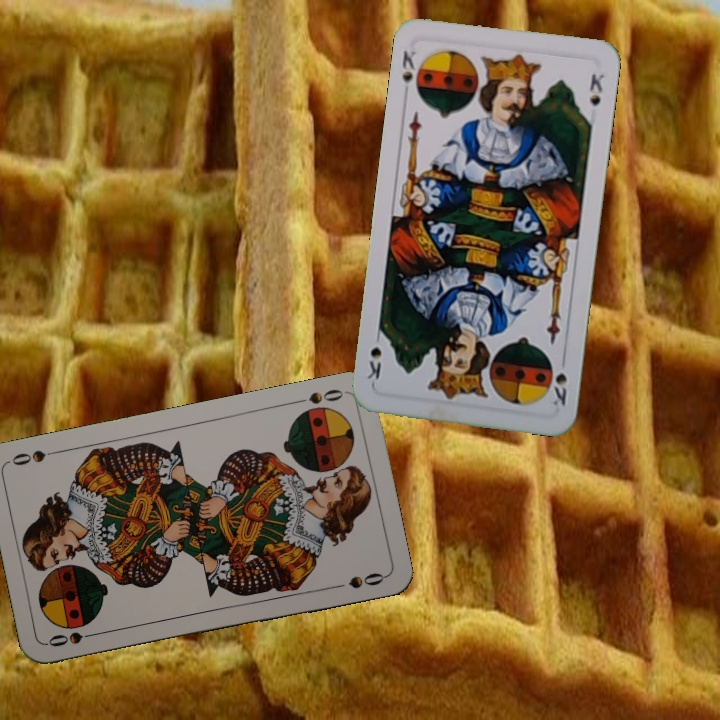SK: (545, 356, 570, 408), (398, 41, 419, 86)
SO: (44, 627, 103, 650), (291, 385, 350, 407)
